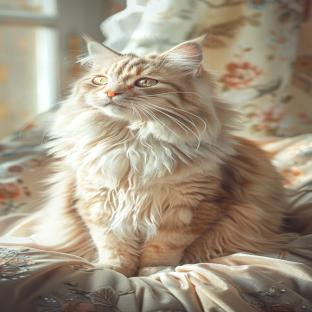Animal: (33, 37, 292, 277)
